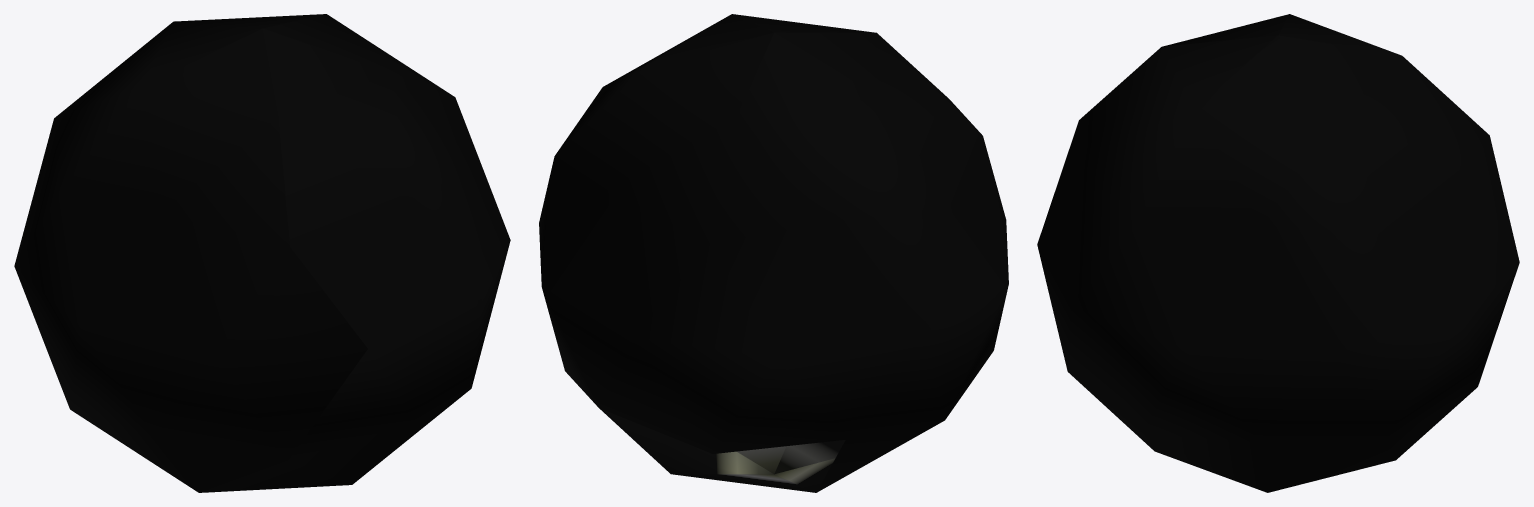
Rendered from datan_common_ExplodeAirBU-_4189ffbd.obj.
3 renders of one model, left to right at view 1: azimuth 30°, elevation 25°; view 2: azimuth 150°, elevation 25°; view 3: azimuth 270°, elevation 25°, orthographic. The views are drawn at different scales.
Parts seen in each view (by area): view 1: datan_common_ExplodeAirBU-_4189ffbd; view 2: datan_common_ExplodeAirBU-_4189ffbd; view 3: datan_common_ExplodeAirBU-_4189ffbd.
Part boxes in pixels (x1=…): datan_common_ExplodeAirBU-_4189ffbd: x1=14, y1=14, x2=510, y2=492; datan_common_ExplodeAirBU-_4189ffbd: x1=539, y1=14, x2=1008, y2=492; datan_common_ExplodeAirBU-_4189ffbd: x1=1037, y1=14, x2=1519, y2=492.
Bounding box in the file's own units: 0.000963 × 0.00098 × 0.000982.
1 material, 1 textured.
